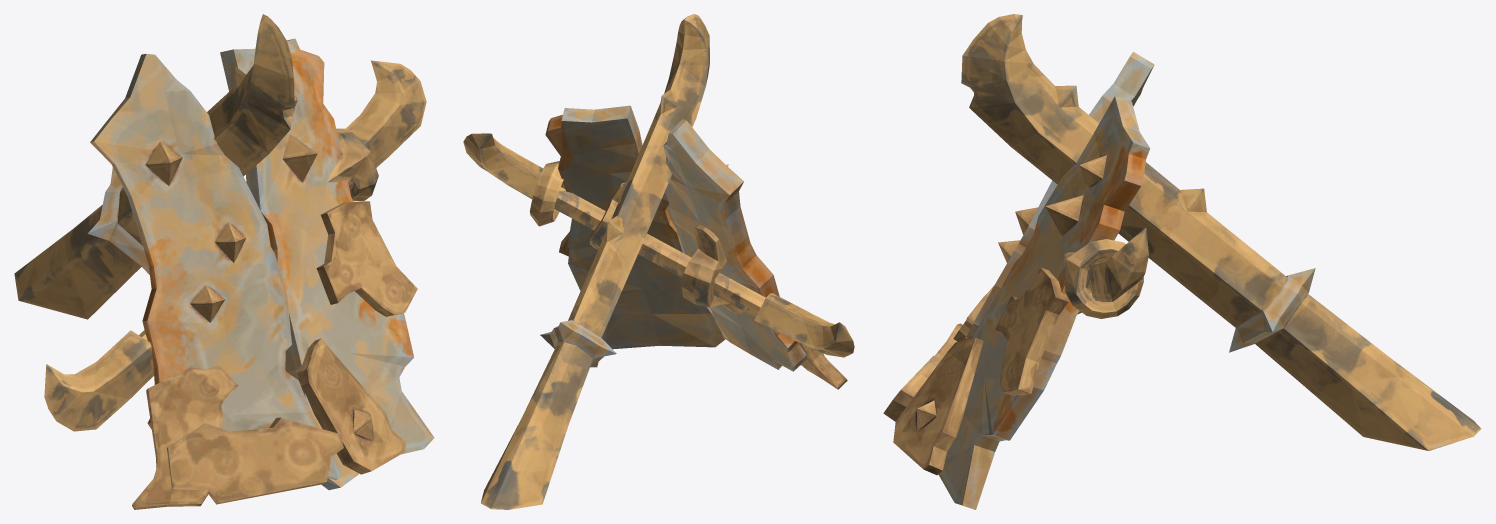
File: Barricade_F.fbx
3 views of the same model, side by side, from view 1: azimuth 30°, elevation 25°; view 2: azimuth 150°, elevation 25°; view 3: azimuth 270°, elevation 25° (orthographic). The views are drawn at different scales.
Visible parts, largest first — view 1: Dn_HL_Barricade_F.mo; view 2: Dn_HL_Barricade_F.mo; view 3: Dn_HL_Barricade_F.mo.
Boxes of the visible parts, left/top/right/bottom form: Dn_HL_Barricade_F.mo: left=14, top=14, right=434, bottom=509; Dn_HL_Barricade_F.mo: left=463, top=14, right=854, bottom=509; Dn_HL_Barricade_F.mo: left=883, top=14, right=1481, bottom=509.
Bounding box in the file's own units: 306 × 309 × 382.
1 material, 1 textured.
